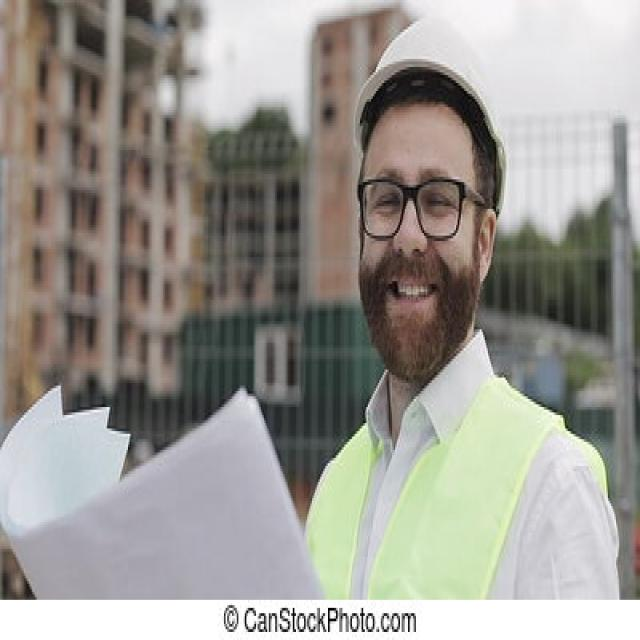goggles: (334, 152, 486, 260)
helmet: (344, 5, 514, 181)
vest: (306, 368, 576, 592)
